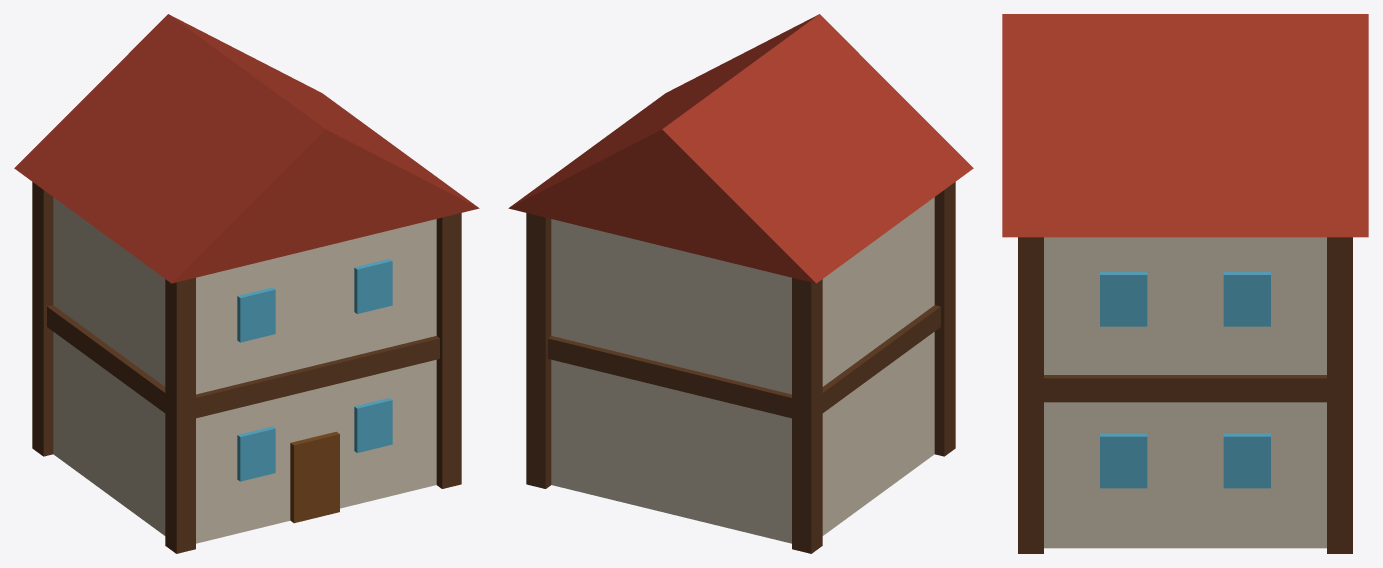
The model's file is house_red.glb.
3 renders of one model, left to right at view 1: azimuth 30°, elevation 25°; view 2: azimuth 150°, elevation 25°; view 3: azimuth 270°, elevation 25°, orthographic. The views are drawn at different scales.
Visible parts, largest first — view 1: beams; view 2: beams; view 3: beams.
Boxes of the visible parts, box(x1,y1,x2,y2) form: beams: box(14, 14, 479, 553); beams: box(508, 14, 973, 553); beams: box(1002, 14, 1368, 553).
Size of the model in its own units: 1.74 by 2.13 by 1.54.
